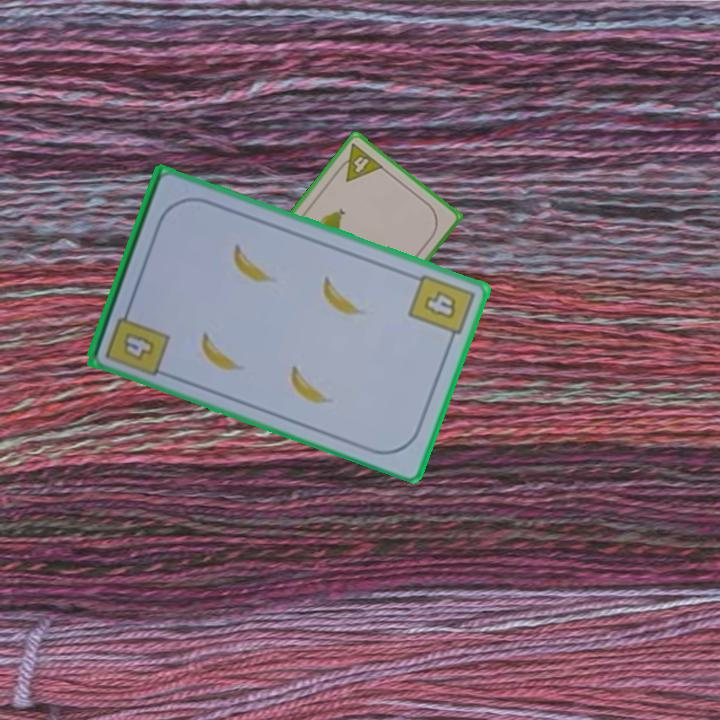4b: (404, 270, 477, 347), (102, 301, 173, 379)
4p: (332, 139, 386, 185)
